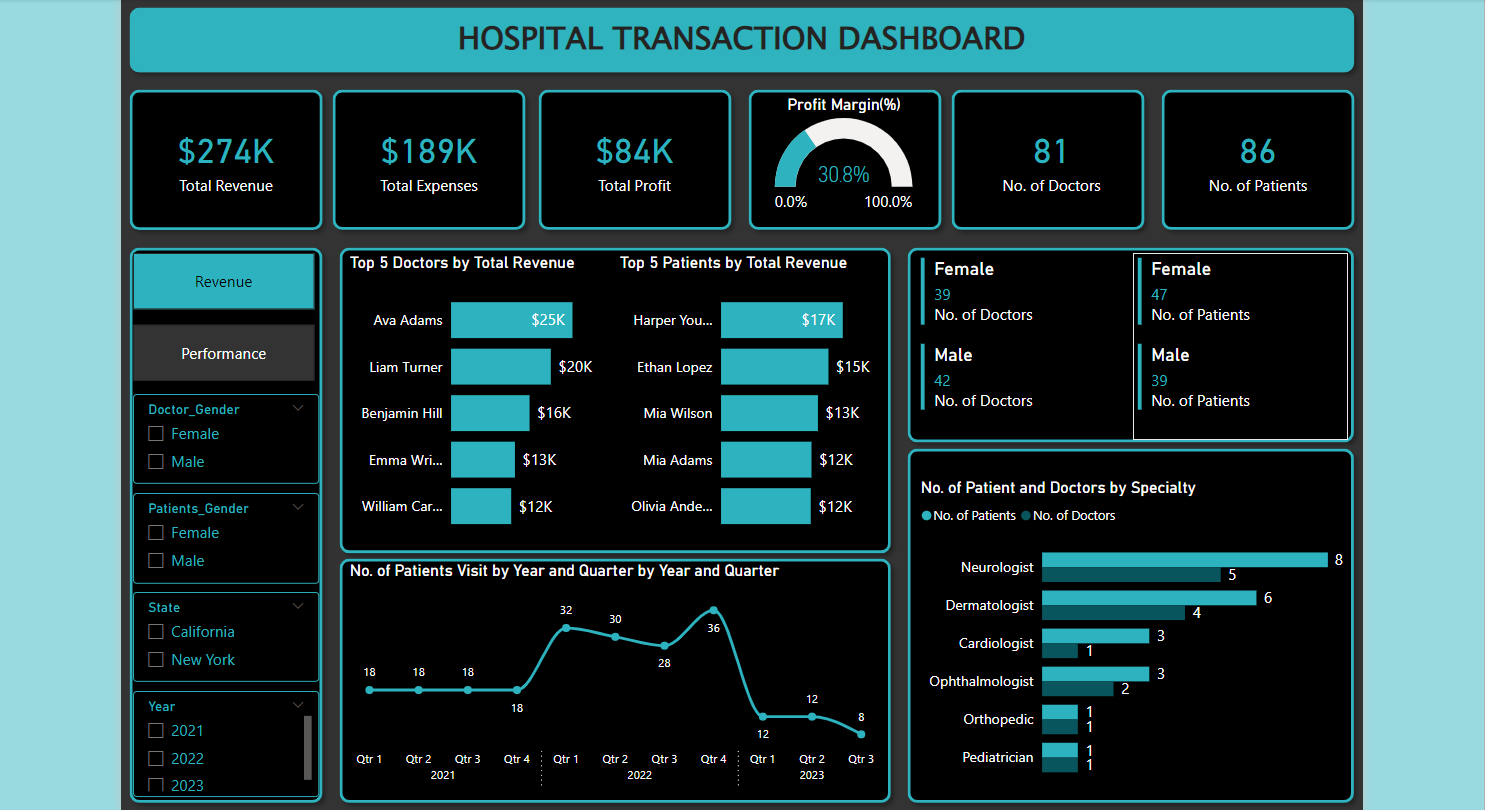

Layout of this report page (visuals, bound fields, positions):
{"tool":"powerbi","page":{"name":"Revenue","canvas":[1300,850],"ordinal":0},"visuals":[{"type":"shape","box":[0,0,1299.9,93.3],"z":0},{"type":"shape","box":[0,86,220,165],"z":1000},{"type":"shape","box":[864.1,86.1,219.8,164.8],"z":2000},{"type":"shape","box":[644.8,84,219.8,164.8],"z":3000},{"type":"shape","box":[432.2,86.1,219.8,164.8],"z":4000},{"type":"shape","box":[216.2,86.1,219.8,164.8],"z":5000},{"type":"shape","box":[1080.1,86.1,219.8,164.8],"z":6000},{"type":"shape","box":[0,250.9,219.8,599.1],"z":7000},{"type":"shape","box":[219.8,250.9,595,299.6],"z":8000},{"type":"shape","box":[708,550.4,591.9,299.6],"z":9000},{"type":"shape","box":[814.8,250.9,485.1,299.6],"z":10000},{"type":"shape","box":[219.8,550.4,488.2,299.6],"z":11000},{"type":"card","fields":{"Values":["Calculated Measure.Total Revenue"]},"box":[12.4,100.5,194.9,132.7],"z":12000},{"type":"card","fields":{"Values":["Patient Dim.PatientID"]},"box":[1095.7,100.5,188.7,132.7],"z":13000},{"type":"card","fields":{"Values":["Doctors Dim.DoctorID"]},"box":[880.1,100.5,187.6,132.7],"z":14000},{"type":"gauge","fields":{"Y":["Calculated Measure.Profit Margin(%)"]},"box":[664.5,100.5,183.5,132.7],"z":15000},{"type":"card","fields":{"Values":["Calculated Measure.Total Profit"]},"box":[447.8,100.5,187.6,132.7],"z":16000},{"type":"card","fields":{"Values":["Calculated Measure.Total Expenses"]},"box":[230.1,100.5,190.7,132.7],"z":17000},{"type":"lineChart","fields":{"Y":["Calculated Measure.Total Revenue"],"Category":["Calender Dim.Date.Variation.Date Hierarchy.Year","Calender Dim.Date.Variation.Date Hierarchy.Quarter","Calender Dim.Date.Variation.Date Hierarchy.Month"]},"box":[234.3,265.4,566,270.5],"z":18000},{"type":"clusteredBarChart","fields":{"Y":["Calculated Measure.Total Revenue"],"Category":["Doctors Dim.Specialty"]},"box":[830.3,265.4,454,270.5],"z":19000},{"type":"clusteredBarChart","fields":{"Y":["Calculated Measure.Total Revenue"],"Category":["Procedure Dim.Category"]},"box":[237.4,564.9,454,270.5],"z":20000},{"type":"pivotTable","fields":{"Rows":["Procedure Dim.ProcedureName"],"Values":["Calculated Measure.Total Revenue","Calculated Measure.Total Expenses","Calculated Measure.Profit Margin(%)","Hospital Transactions (Fact Table).TransactionID"]},"box":[723.5,564.9,560.8,270.5],"z":21000},{"type":"slicer","fields":{"Values":["Doctors Dim.Doctor_Gender"]},"box":[12.4,413.6,194.9,94.3],"z":22000},{"type":"slicer","fields":{"Values":["Patient Dim.Patients_Gender"]},"box":[12.4,516.9,194.9,95.4],"z":23000},{"type":"slicer","fields":{"Values":["Location Dim.State"]},"box":[12.4,621.3,194.9,94.3],"z":24000},{"type":"slicer","fields":{"Values":["Calender Dim.Date.Variation.Date Hierarchy.Year"]},"box":[12.4,724.6,194.9,110.9],"z":25000},{"type":"textbox","box":[290.2,15.5,719.4,62.2],"z":26000},{"type":"pageNavigator","box":[12.4,265.4,190.7,135.8],"z":27000}]}

Visuals, with their boxes on the page's 1300x850 design canvas (x1, y1, x2, y2). These are canvas units, not pixel positions in the 1486x810 screenshot, which may show the page scaled, cropped or inside an application window:
shape: <box>0,0,1300,93</box>
shape: <box>0,86,220,251</box>
shape: <box>864,86,1084,251</box>
shape: <box>645,84,865,249</box>
shape: <box>432,86,652,251</box>
shape: <box>216,86,436,251</box>
shape: <box>1080,86,1300,251</box>
shape: <box>0,251,220,850</box>
shape: <box>220,251,815,550</box>
shape: <box>708,550,1300,850</box>
shape: <box>815,251,1300,550</box>
shape: <box>220,550,708,850</box>
card - Calculated Measure.Total Revenue: <box>12,100,207,233</box>
card - Patient Dim.PatientID: <box>1096,100,1284,233</box>
card - Doctors Dim.DoctorID: <box>880,100,1068,233</box>
gauge - Calculated Measure.Profit Margin(%): <box>664,100,848,233</box>
card - Calculated Measure.Total Profit: <box>448,100,635,233</box>
card - Calculated Measure.Total Expenses: <box>230,100,421,233</box>
lineChart - Calculated Measure.Total Revenue x Calender Dim.Date.Variation.Date Hierarchy.Year: <box>234,265,800,536</box>
clusteredBarChart - Calculated Measure.Total Revenue x Doctors Dim.Specialty: <box>830,265,1284,536</box>
clusteredBarChart - Calculated Measure.Total Revenue x Procedure Dim.Category: <box>237,565,691,835</box>
pivotTable - Procedure Dim.ProcedureName x Calculated Measure.Total Revenue: <box>724,565,1284,835</box>
slicer - Doctors Dim.Doctor_Gender: <box>12,414,207,508</box>
slicer - Patient Dim.Patients_Gender: <box>12,517,207,612</box>
slicer - Location Dim.State: <box>12,621,207,716</box>
slicer - Calender Dim.Date.Variation.Date Hierarchy.Year: <box>12,725,207,836</box>
textbox: <box>290,16,1010,78</box>
pageNavigator: <box>12,265,203,401</box>
